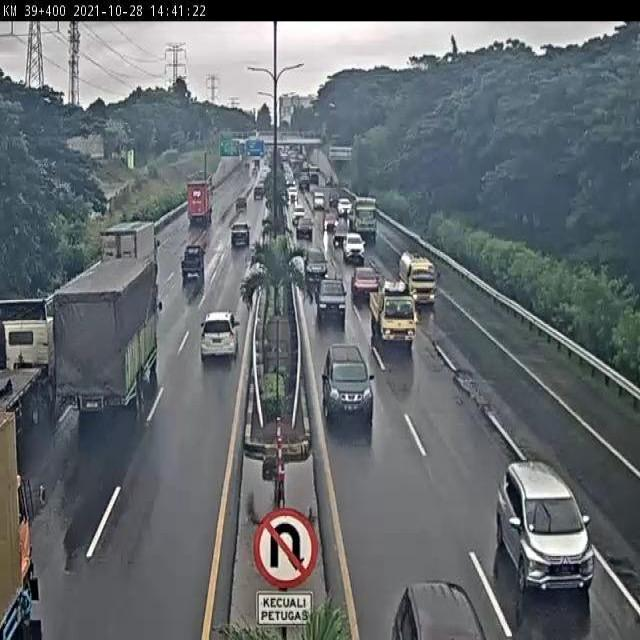car: (495, 459, 596, 593), (322, 344, 374, 427), (199, 309, 239, 360), (315, 277, 347, 320), (351, 266, 380, 302), (180, 242, 205, 278), (303, 247, 329, 280), (343, 233, 366, 263)
mid truck: (51, 261, 162, 412), (98, 220, 161, 287)
small truck: (369, 280, 417, 349)
truck-m-: (398, 249, 439, 307)
